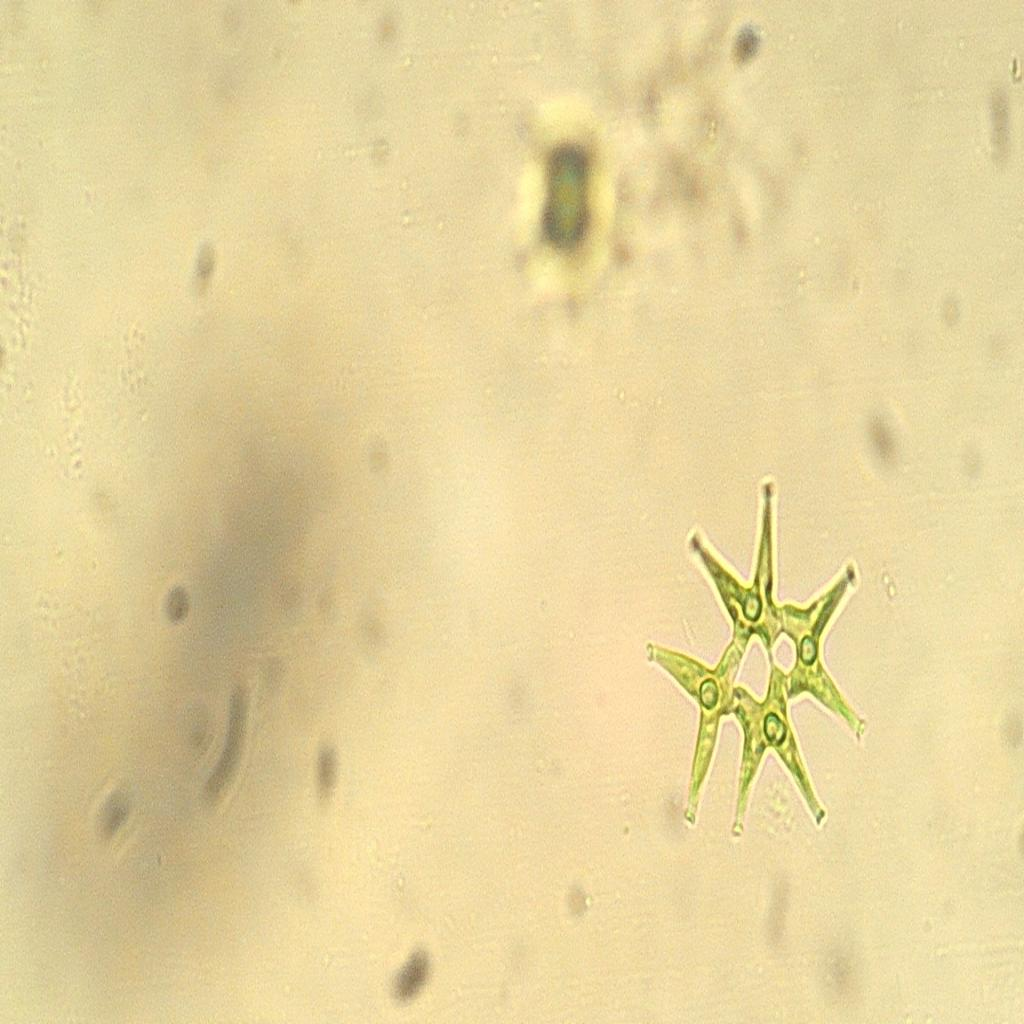Pediastrum_CF: (638, 475, 872, 853)
